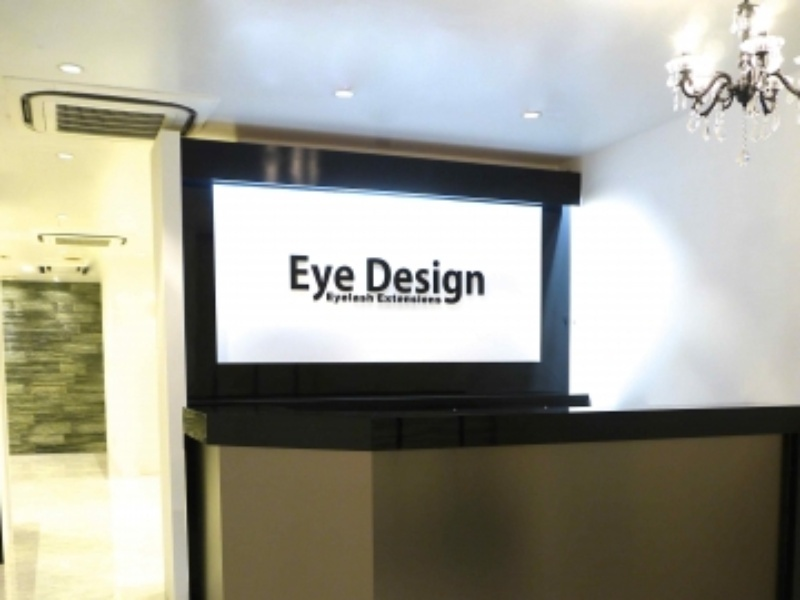text: (289, 254, 304, 303), (305, 254, 320, 303), (321, 254, 336, 303), (337, 254, 352, 303), (369, 256, 384, 305), (385, 256, 400, 305), (401, 256, 416, 305), (417, 256, 432, 305), (433, 256, 448, 305), (449, 256, 464, 305), (465, 256, 480, 305), (481, 256, 487, 305), (337, 292, 352, 305), (353, 292, 368, 305), (385, 292, 400, 305), (401, 292, 416, 305), (417, 292, 432, 305), (353, 254, 356, 303), (365, 256, 368, 305), (325, 292, 336, 305), (376, 292, 384, 305), (433, 292, 441, 305), (369, 292, 376, 305)
